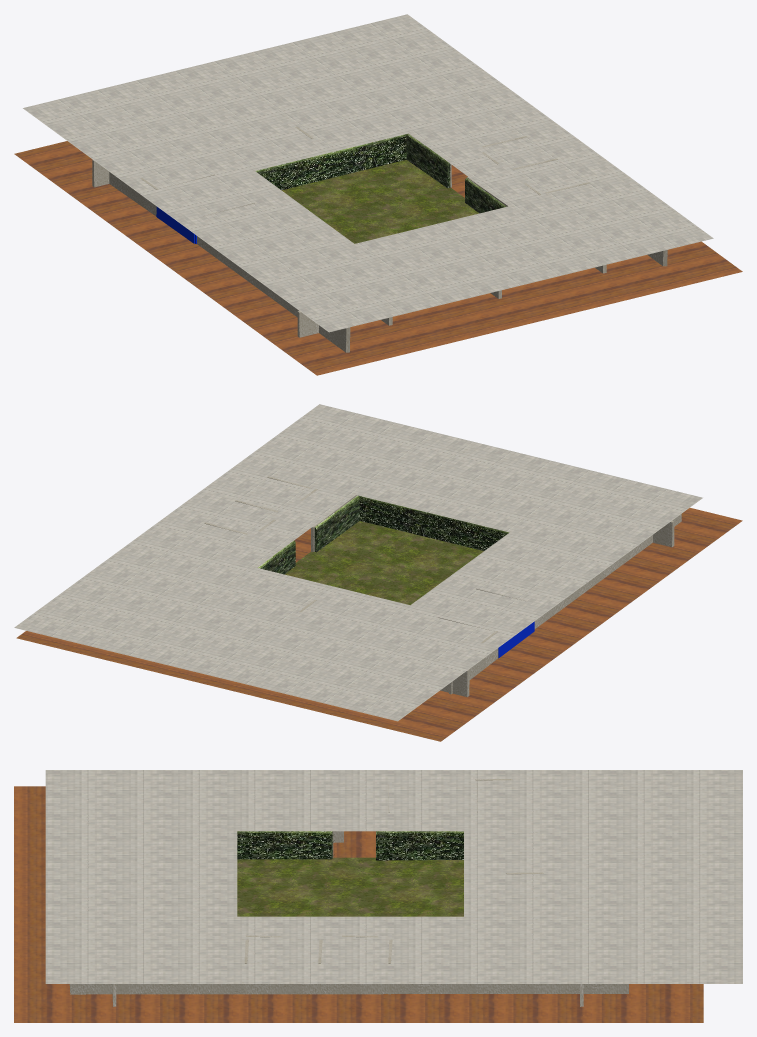
Rendered from remap.glb.
The picture shows the model from 3 angles, top to bottom: view 1: azimuth 30°, elevation 25°; view 2: azimuth 150°, elevation 25°; view 3: azimuth 270°, elevation 25°; orthographic projection. The views are drawn at different scales.
Parts seen in each view (by area): view 1: roof, floor, grass, HEDGE.005, Cube.003, HEDGE.004, HEDGE.003, Cube.025; view 2: roof, floor, grass, HEDGE.002, HEDGE.003, Cube.003, HEDGE.004; view 3: roof, floor, grass, Cube.032, HEDGE.007, HEDGE.001.
Boxes of the visible parts, x1,y1,x2,y2 form: roof: (23,14,713,332); floor: (14,141,742,375); grass: (282,160,478,243); HEDGE.005: (255,134,406,190); Cube.003: (197,236,350,352); HEDGE.004: (406,133,450,188); HEDGE.003: (465,177,506,213); Cube.025: (109,172,158,215); roof: (14,404,702,721); floor: (16,508,742,741); grass: (285,521,483,604); HEDGE.002: (359,496,509,550); HEDGE.003: (313,495,359,552); Cube.003: (534,514,681,628); HEDGE.004: (258,540,295,574); roof: (45,770,742,983); floor: (14,786,703,1022); grass: (237,857,463,916); Cube.032: (69,984,628,994); HEDGE.007: (237,831,334,859); HEDGE.001: (376,831,463,860).
Bounding box in the file's own units: 97.19 × 7.69 × 127.
160 materials, 151 textured.
